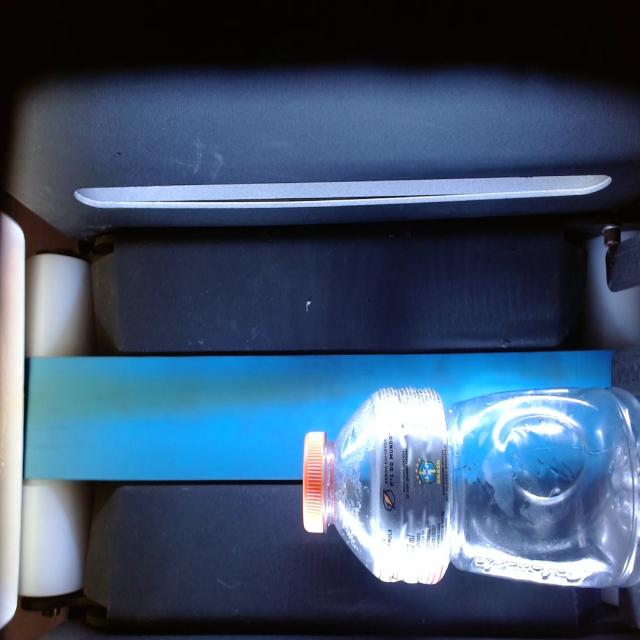bottom: (448, 389, 640, 588)
label: (366, 389, 450, 584)
neck: (303, 397, 372, 579)
